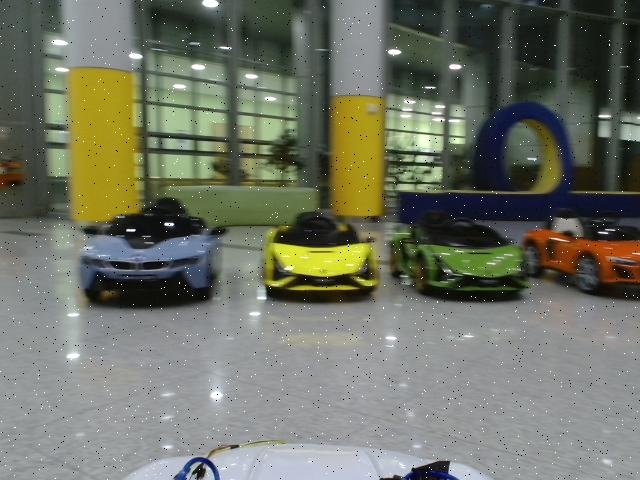car: (79, 198, 229, 303), (392, 211, 531, 296), (263, 211, 379, 299), (520, 211, 640, 293)
